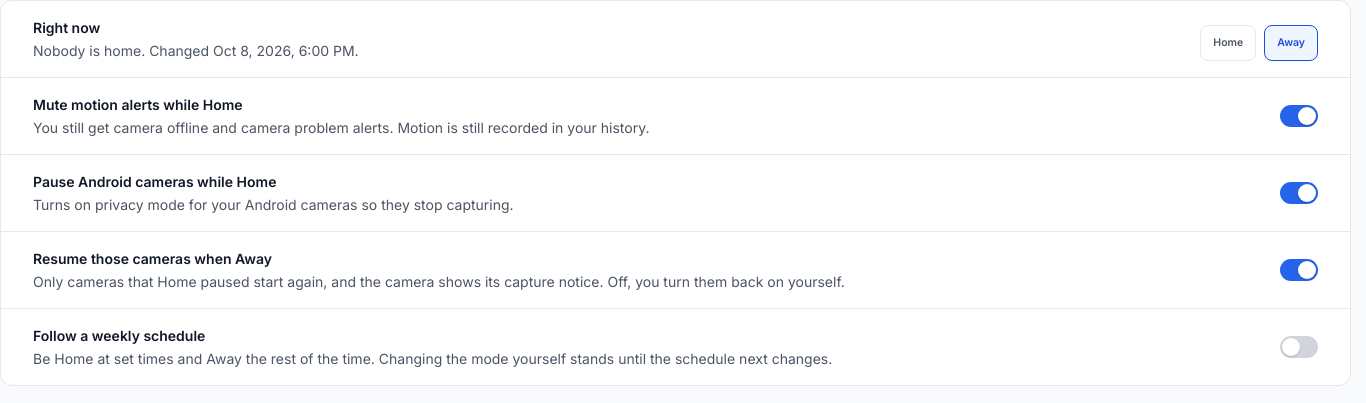
Test case: HouseholdModeSettings › only offers to resume cameras once pausing is on, and turns resume off with it
Click the switch named "Pause Android cameras while Home": coordinates (1299, 193) [1280,182,1318,204]
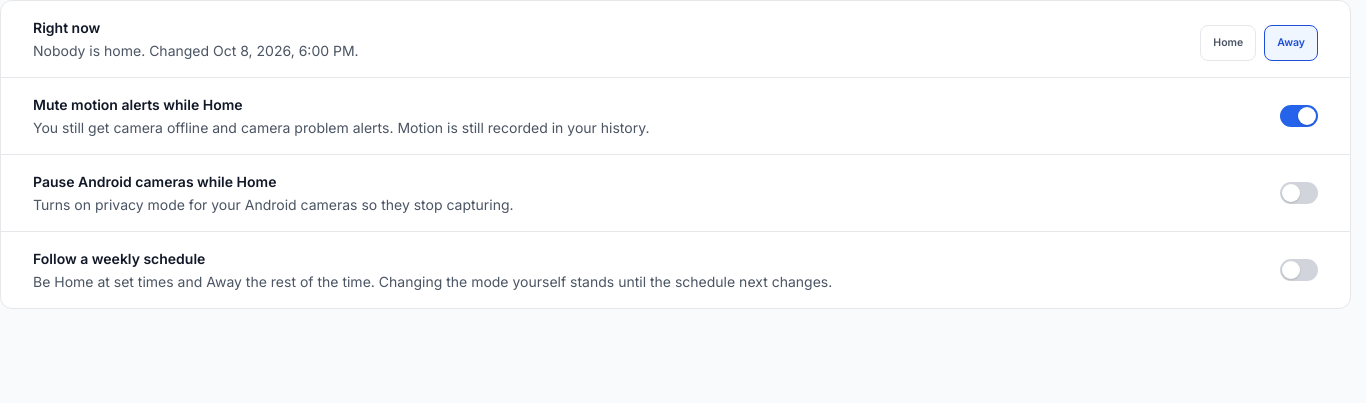
Expected: the text "Resume those cameras when Away" is gone
